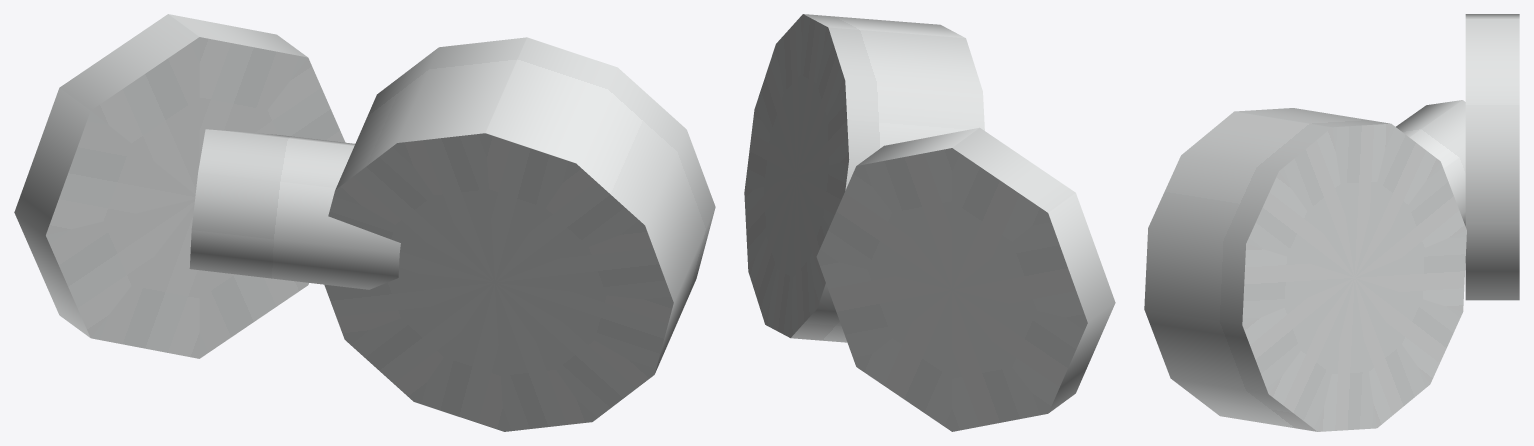
Rendered from nycsignalarm_stub_161.obj.
3 renders of one model, left to right at view 1: azimuth 30°, elevation 25°; view 2: azimuth 150°, elevation 25°; view 3: azimuth 270°, elevation 25°, orthographic. The views are drawn at different scales.
Parts seen in each view (by area): view 1: nycsignalarm_stub_161; view 2: nycsignalarm_stub_161; view 3: nycsignalarm_stub_161.
Boxes of the visible parts, x1,y1,x2,y2 form: nycsignalarm_stub_161: (14, 14, 715, 431); nycsignalarm_stub_161: (744, 14, 1115, 431); nycsignalarm_stub_161: (1144, 14, 1519, 431).
Bounding box in the file's own units: 0.6139 × 0.3948 × 0.4312.
